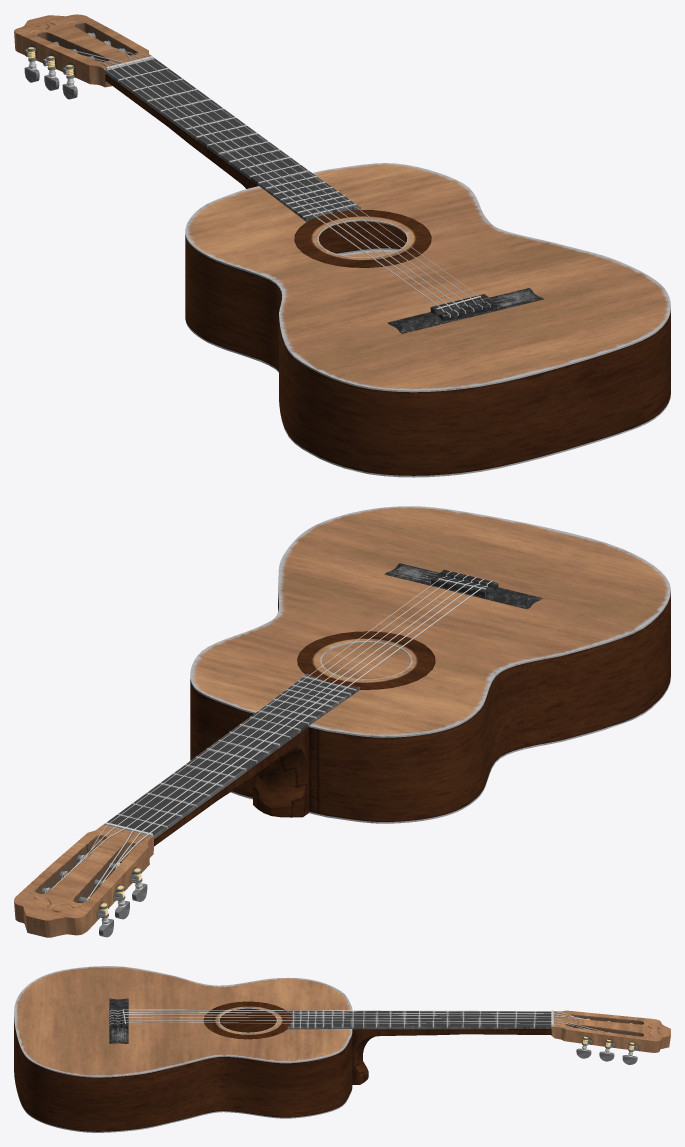
The model's file is guitar.obj.
The picture shows the model from 3 angles, top to bottom: view 1: azimuth 30°, elevation 25°; view 2: azimuth 150°, elevation 25°; view 3: azimuth 270°, elevation 25°; orthographic projection. The views are drawn at different scales.
Parts seen in each view (by area): view 1: polySurface109_meshId0_name; view 2: polySurface109_meshId0_name; view 3: polySurface109_meshId0_name.
Part boxes in pixels (x1,y1,x2,y2): polySurface109_meshId0_name: [14, 14, 670, 477]; polySurface109_meshId0_name: [14, 506, 670, 937]; polySurface109_meshId0_name: [14, 966, 670, 1132].
Bounding box in the file's own units: 0.7962 × 0.2056 × 2.
1 material, 1 textured.
